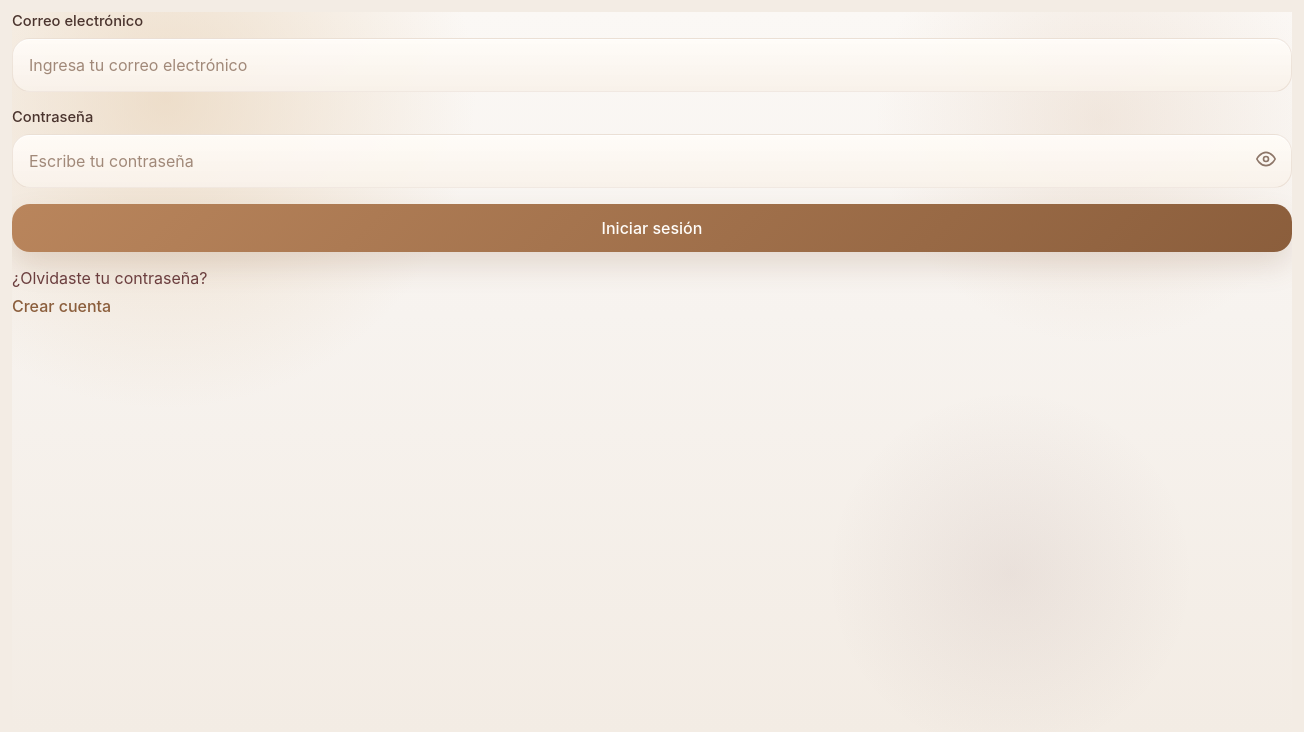
Test: LoginForm › shows the blocked-account text from es.json when the backend reports ACCOUNT_BLOCKED
The width and height of the screenshot is (1304, 732).
Type "player@toastedvr.test" into the field with placeholder "Ingresa tu correo electrónico". click: (652, 65)
box: 12,38 -> 1292,92
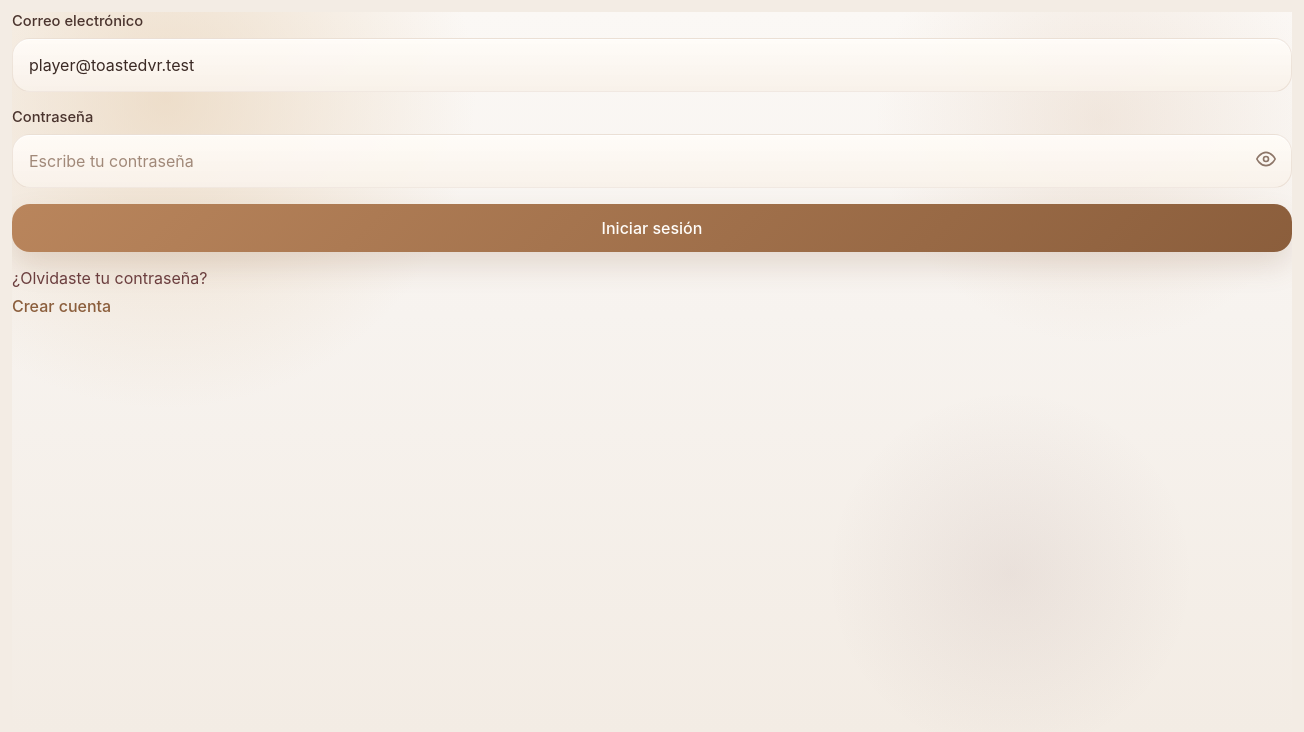
Type "Password123!" into the password field with placeholder "Escribe tu contraseña". click: (652, 161)
box: 12,134 -> 1292,188
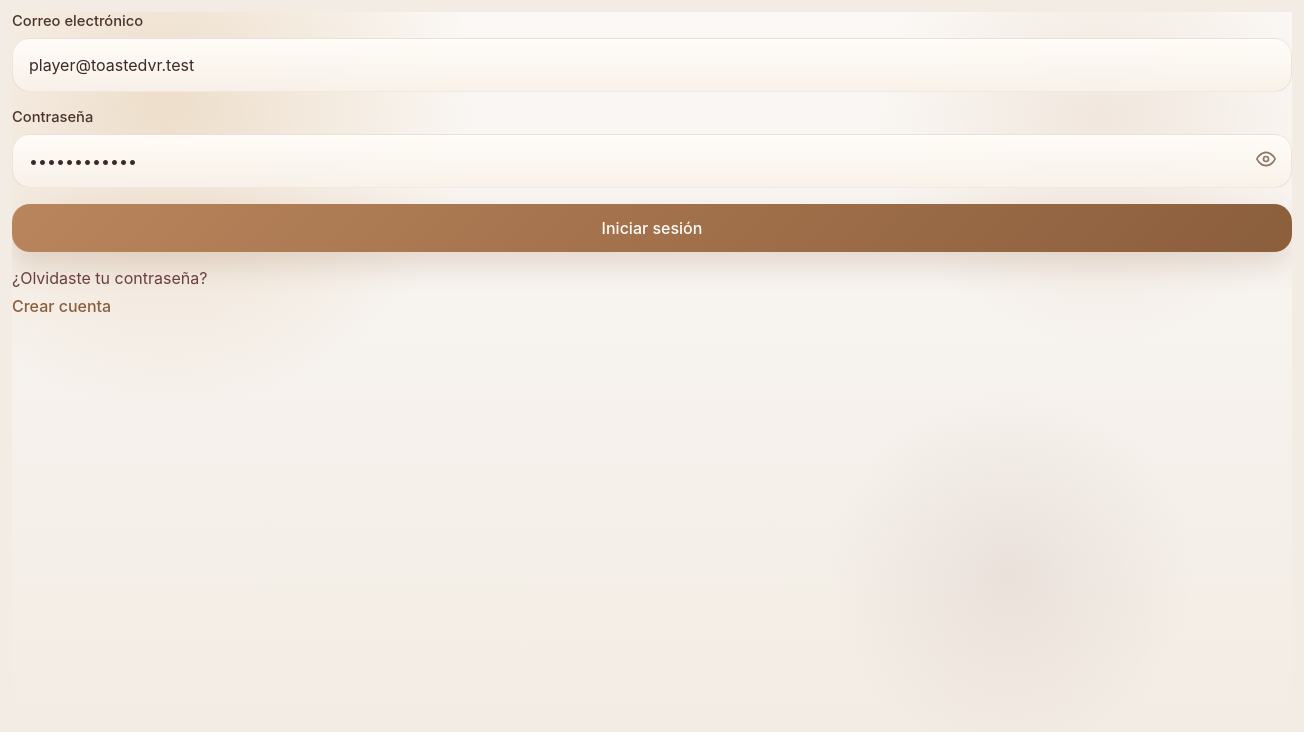
Click the button "Iniciar sesión". click: (652, 228)
box: 12,204 -> 1292,252
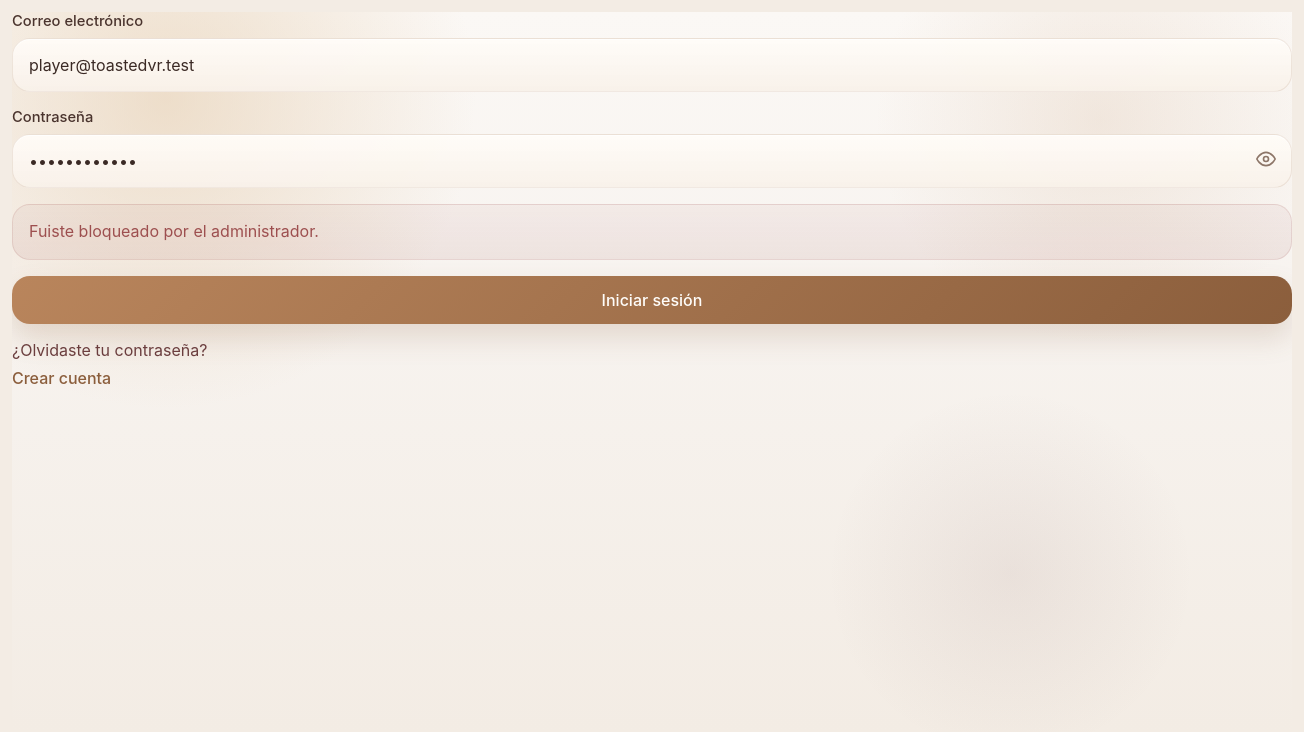
expect the text "Fuiste bloqueado por el administrador." is shown: met, box 12,204 -> 1292,260
